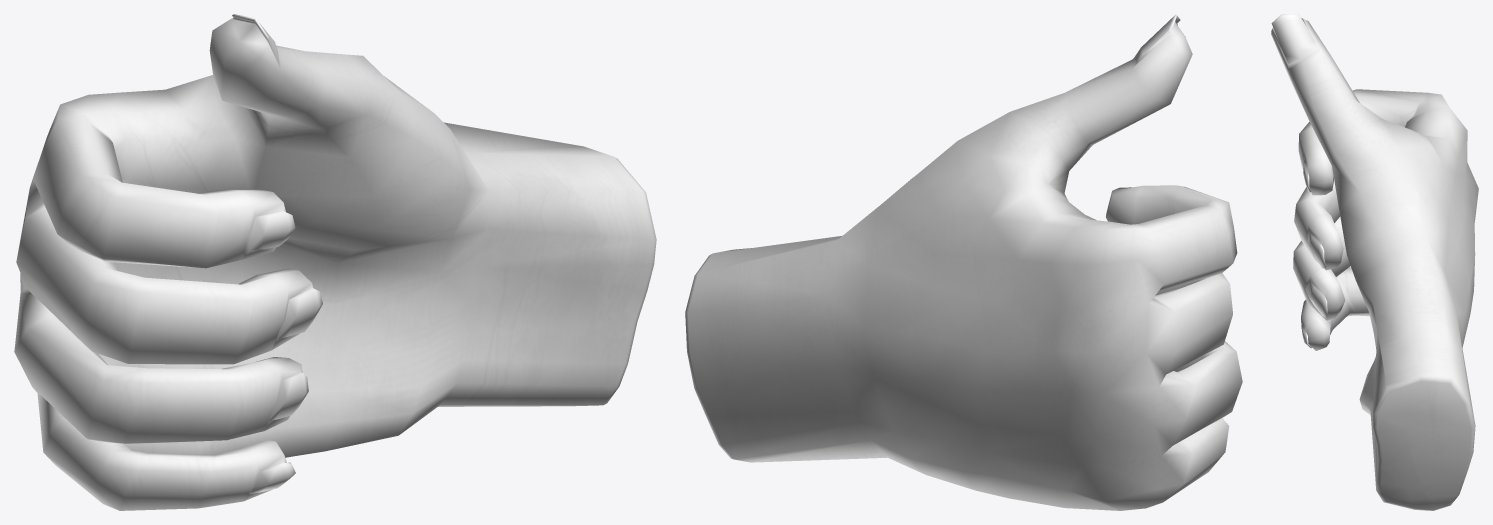
The model's file is r_smooth_hold.glb.
3 renders of one model, left to right at view 1: azimuth 30°, elevation 25°; view 2: azimuth 150°, elevation 25°; view 3: azimuth 270°, elevation 25°, orthographic. The views are drawn at different scales.
Parts seen in each view (by area): view 1: R_Smooth_Hold; view 2: R_Smooth_Hold; view 3: R_Smooth_Hold.
Part boxes in pixels (x1,y1,x2,y2): R_Smooth_Hold: (14, 14, 656, 510); R_Smooth_Hold: (685, 14, 1242, 510); R_Smooth_Hold: (1271, 14, 1478, 510).
Size of the model in its own units: 0.168 by 0.1502 by 0.0771.
1 material, 1 textured.
